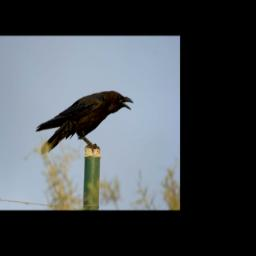Crow: (33, 87, 135, 155)
